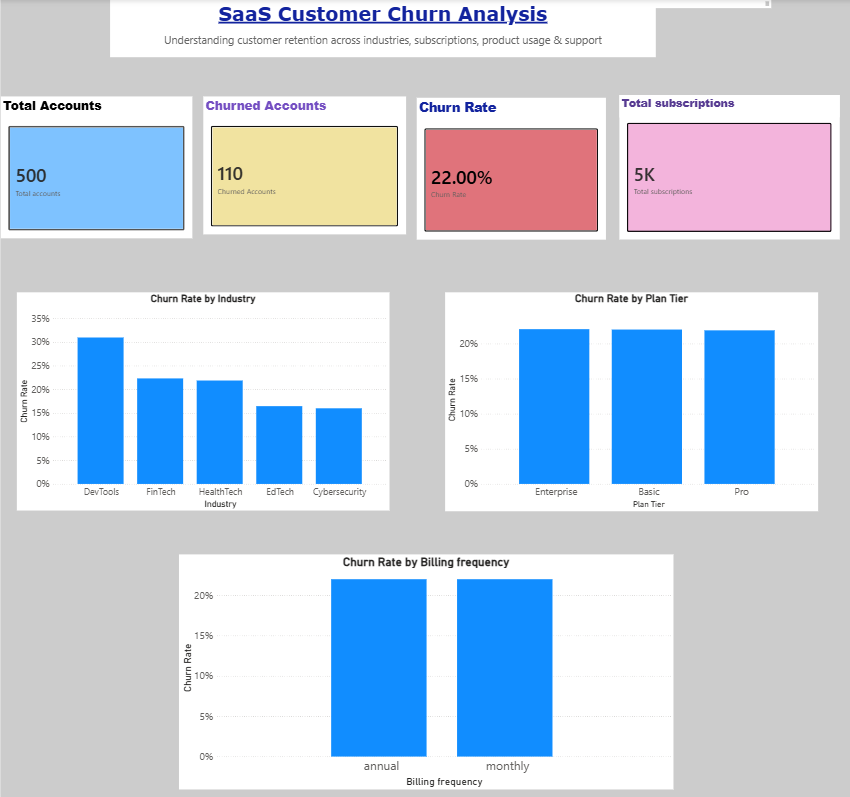

What the dashboard file says about the page in this screenshot:
{"tool":"powerbi","page":{"name":"Executive Overview","canvas":[1900,1800],"ordinal":0},"visuals":[{"type":"cardVisual","title":"Total Accounts","fields":{"Data":["Count(accounts.account_id)"]},"box":[0,217.2,428.3,316.7],"z":0},{"type":"cardVisual","title":"Churned Accounts","fields":{"Data":["Count(accounts.account_id)"]},"box":[452.4,217.2,452.4,307.6],"z":1000},{"type":"cardVisual","title":"Churn Rate ","fields":{"Data":["accounts.Churn Rate"]},"box":[929,220.2,422.3,316.7],"z":2000},{"type":"textbox","box":[244.3,0,1218.5,129.7],"z":3000},{"type":"cardVisual","title":"Total subscriptions","fields":{"Data":["Count(subscriptions.subscription_id)"]},"box":[1381.4,214.1,491.6,322.7],"z":4000},{"type":"clusteredColumnChart","title":"Churn Rate by Industry","fields":{"Category":["accounts.industry"],"Y":["accounts.Churn Rate"]},"box":[36.2,654.5,832.2,487.4],"z":5000},{"type":"clusteredColumnChart","fields":{"Y":["accounts.Churn Rate"],"Category":["accounts.plan_tier"]},"box":[992.3,654.5,832.4,488.6],"z":5001},{"type":"textbox","box":[1280,0,441.7,20],"z":5002},{"type":"clusteredColumnChart","fields":{"Category":["subscriptions.billing_frequency"],"Y":["accounts.Churn Rate"]},"box":[398.1,1239.6,1103.9,524.8],"z":5003}]}

Visuals, with their boxes in screenshot pixels (x1, y1, x2, y2), scaled from the page's 1900x1800 canvas onto the 850x797 screenshot:
"Total Accounts" cardVisual: 0 96 192 236
"Churned Accounts" cardVisual: 202 96 405 232
"Churn Rate " cardVisual: 416 97 605 238
textbox: 109 0 654 57
"Total subscriptions" cardVisual: 618 95 838 238
"Churn Rate by Industry" clusteredColumnChart: 16 290 388 506
clusteredColumnChart - accounts.Churn Rate x accounts.plan_tier: 444 290 816 506
textbox: 573 0 770 9
clusteredColumnChart - subscriptions.billing_frequency x accounts.Churn Rate: 178 549 672 781
